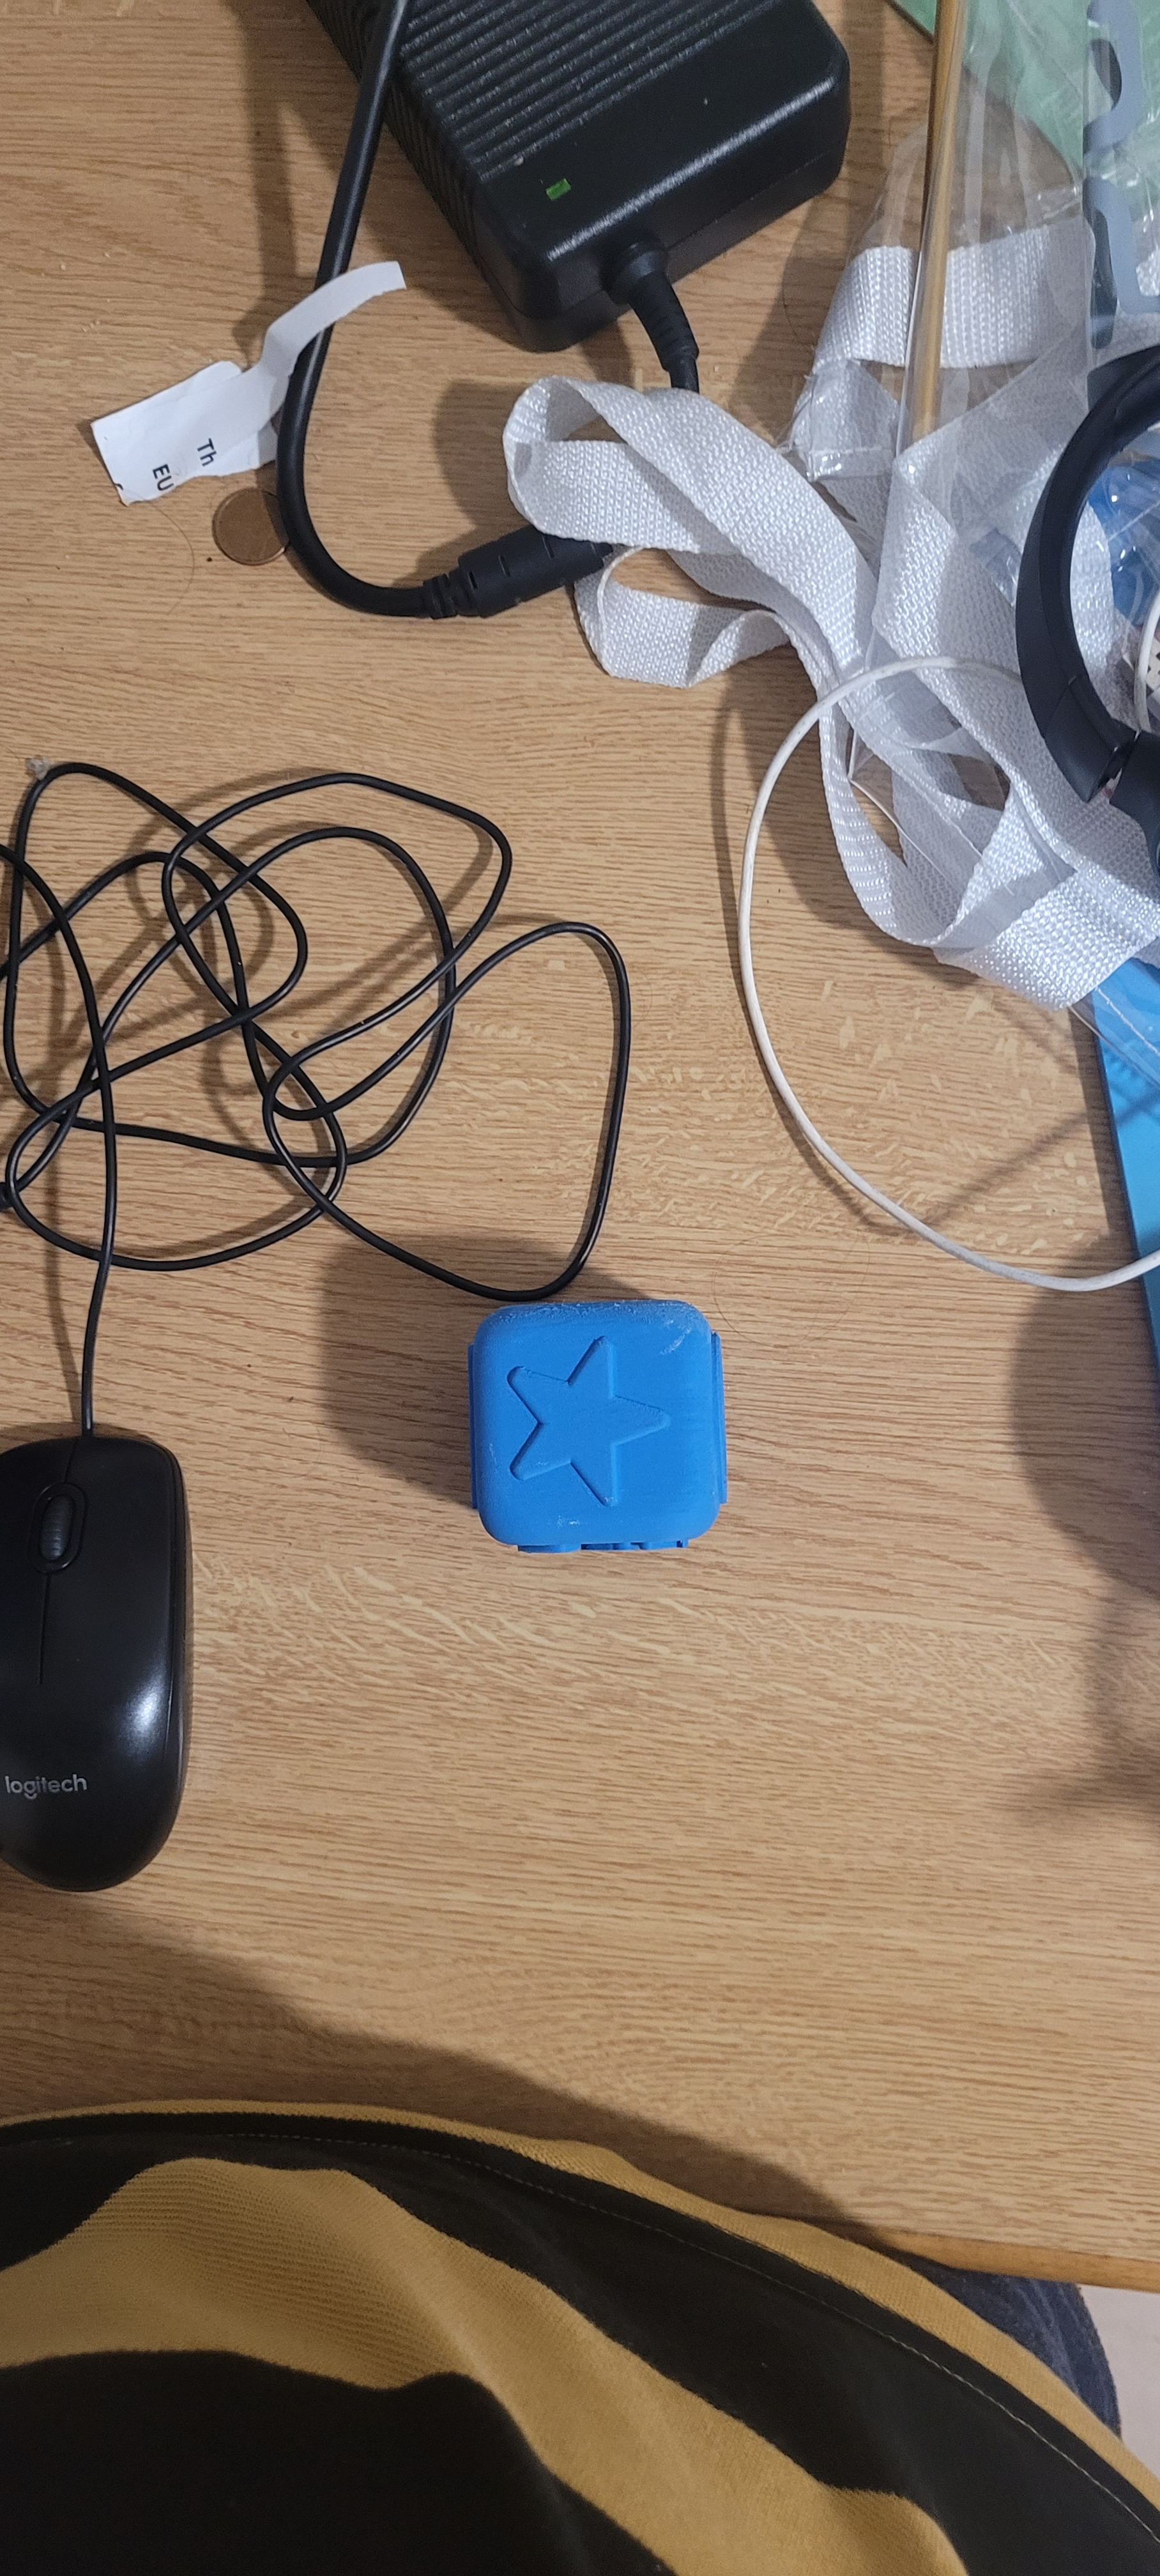Star: (493, 1337, 692, 1503)
